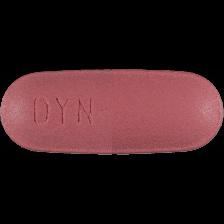99207-465: (0, 0, 224, 224)
